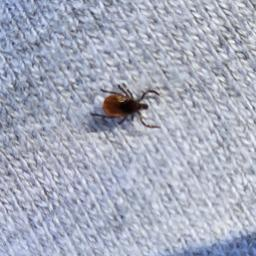Ixodes scapularis: (89, 88, 161, 126)
